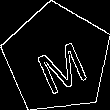M_NW: (26, 26, 88, 91)
